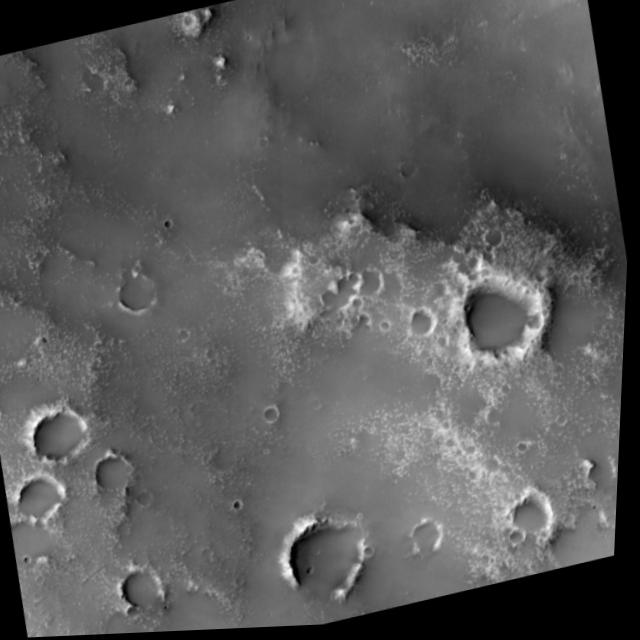Crater: (429, 256, 572, 391), (265, 492, 394, 630), (15, 386, 121, 482), (105, 554, 203, 636), (494, 482, 571, 569), (0, 57, 13, 197)
